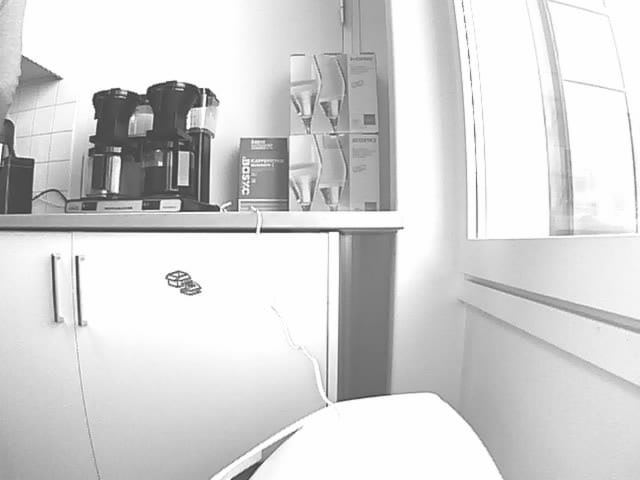empty coffee: (84, 145, 132, 197)
not empty coffee: (143, 142, 198, 197)
